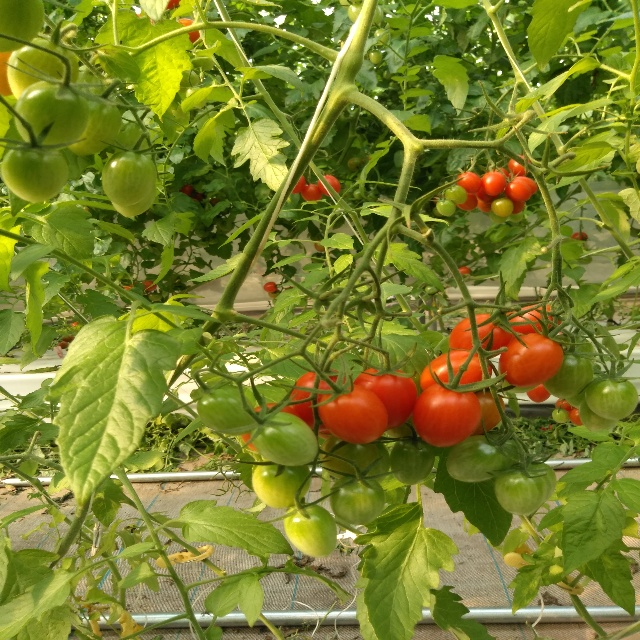l_fully_ripened: (413, 382, 482, 448), (352, 366, 417, 429), (289, 367, 352, 432), (498, 333, 564, 388), (419, 349, 493, 393), (449, 313, 511, 360), (502, 303, 563, 339), (481, 171, 506, 197), (505, 180, 532, 202), (456, 172, 482, 194), (510, 176, 537, 195), (526, 383, 552, 402), (508, 154, 530, 176), (318, 175, 339, 197), (301, 183, 322, 202), (455, 193, 477, 211), (506, 196, 525, 214), (475, 188, 494, 203), (567, 409, 583, 426), (555, 399, 575, 412), (292, 175, 305, 194)
l_green: (13, 79, 91, 151), (8, 36, 78, 101), (318, 382, 388, 445), (1, 140, 70, 203), (250, 411, 320, 467), (319, 433, 391, 484), (69, 95, 123, 156), (102, 150, 158, 208), (445, 435, 509, 483), (197, 385, 257, 436), (251, 458, 311, 509), (284, 501, 337, 558), (329, 476, 385, 526), (495, 468, 547, 516), (542, 351, 593, 399), (585, 376, 639, 421), (1, 1, 45, 52), (390, 437, 435, 485), (486, 432, 525, 476), (516, 460, 556, 502), (111, 183, 155, 217), (579, 400, 620, 432), (553, 333, 594, 363), (114, 120, 146, 152), (565, 386, 588, 410), (444, 184, 467, 205), (435, 197, 455, 216), (553, 408, 569, 424)
l_half_ripened: (471, 392, 506, 436), (491, 198, 514, 217)
